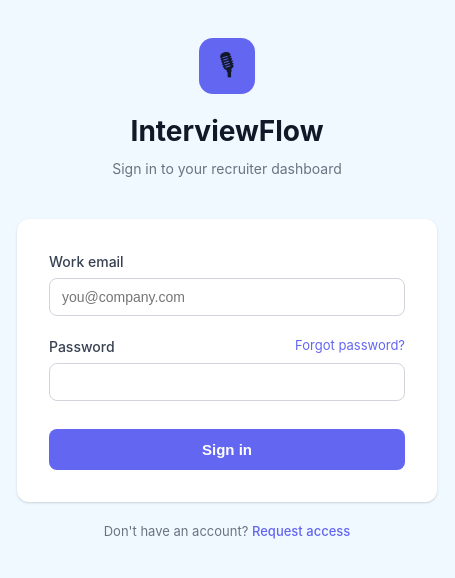
Test: LoginPage › shows validation error when email is empty
Click the button "Sign in": [227, 450] box [49,429,405,470]
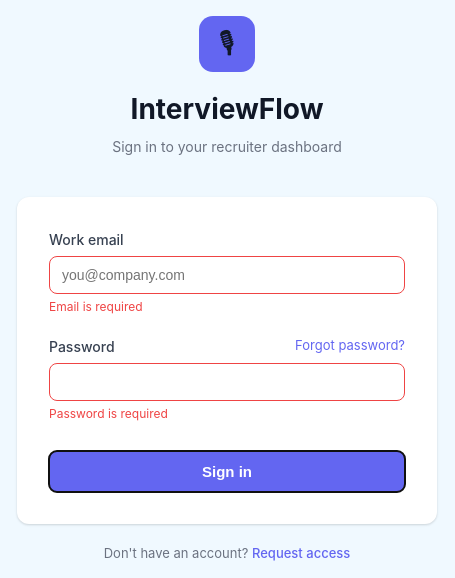
Check: the text "Email is required" is shown, box [49,299,143,314]
